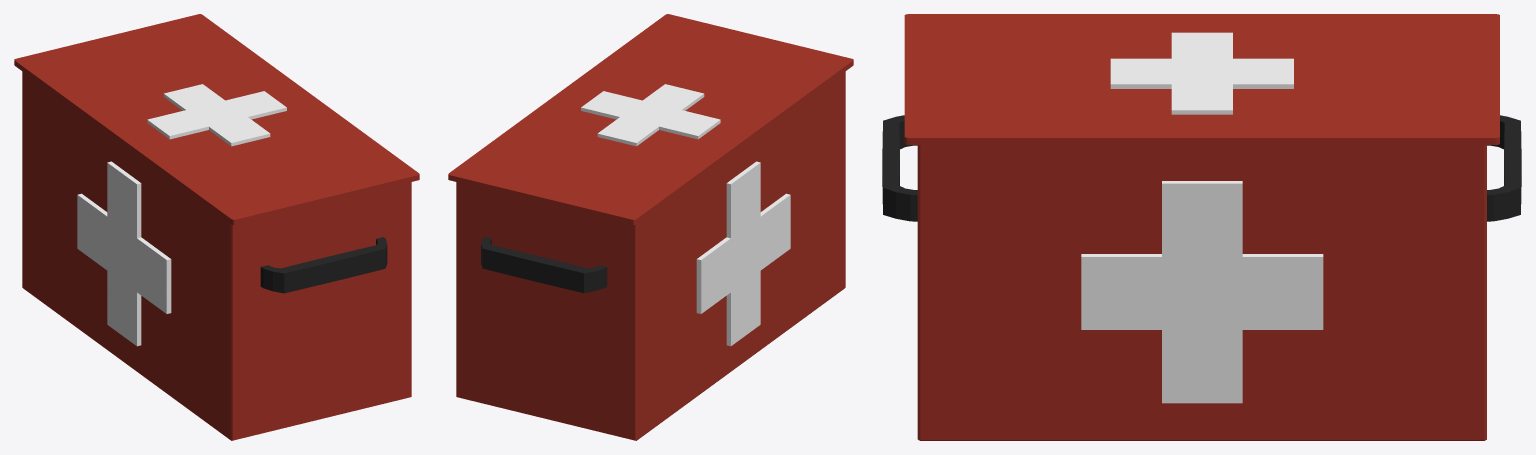
The model's file is healthstation.fbx.
The picture shows the model from 3 angles, left to right: view 1: azimuth 30°, elevation 25°; view 2: azimuth 150°, elevation 25°; view 3: azimuth 270°, elevation 25°; orthographic projection. The views are drawn at different scales.
Parts seen in each view (by area): view 1: base-healthstation, lid-healthstation, details-healthstation, handles-healthstation; view 2: base-healthstation, lid-healthstation, details-healthstation, handles-healthstation; view 3: base-healthstation, lid-healthstation, details-healthstation, handles-healthstation.
Part boxes in pixels (left/top/right/bottom): base-healthstation: left=22, top=71, right=411, bottom=440; lid-healthstation: left=14, top=14, right=419, bottom=224; details-healthstation: left=77, top=84, right=286, bottom=346; handles-healthstation: left=260, top=237, right=387, bottom=293; base-healthstation: left=456, top=71, right=845, bottom=440; lid-healthstation: left=448, top=14, right=853, bottom=224; details-healthstation: left=581, top=84, right=790, bottom=346; handles-healthstation: left=481, top=237, right=607, bottom=293; base-healthstation: left=917, top=145, right=1486, bottom=440; lid-healthstation: left=904, top=14, right=1499, bottom=144; details-healthstation: left=1081, top=32, right=1323, bottom=403; handles-healthstation: left=882, top=115, right=1521, bottom=221.
Bounding box in the file's own units: 20.15 × 23.25 × 43.4.
